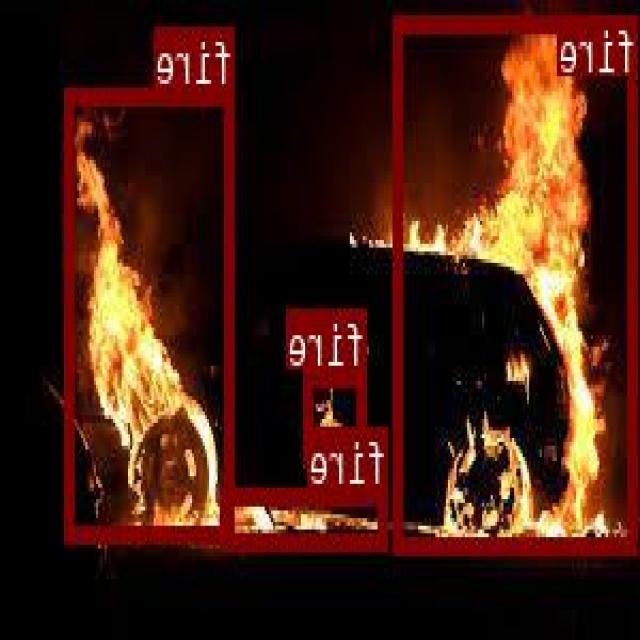fire: (395, 12, 640, 551), (67, 86, 235, 539), (222, 485, 390, 548), (307, 367, 367, 461)
